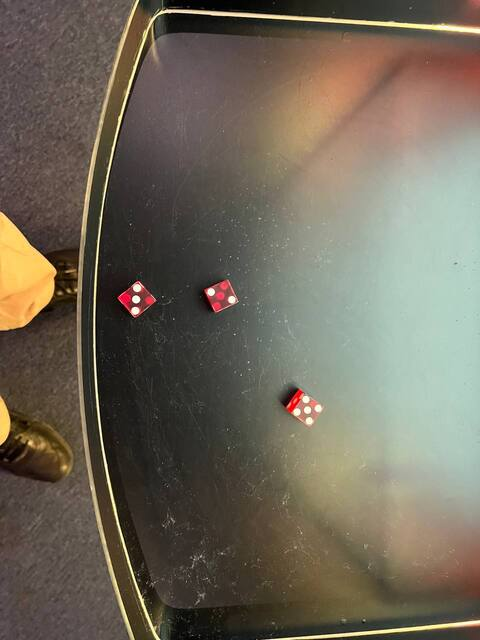five: (288, 392, 327, 427)
three: (115, 279, 159, 320)
two: (200, 277, 242, 314)
